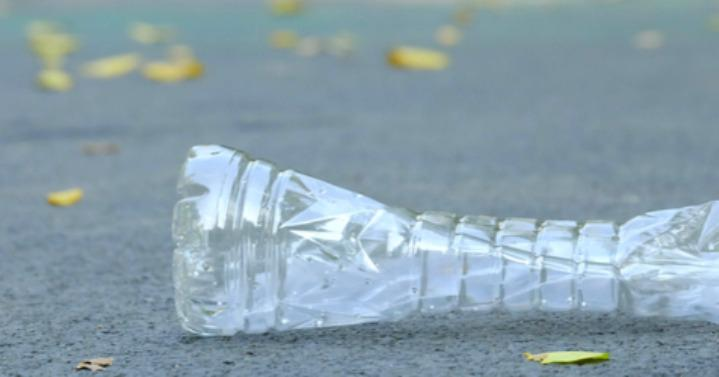plastic: (172, 145, 661, 336)
